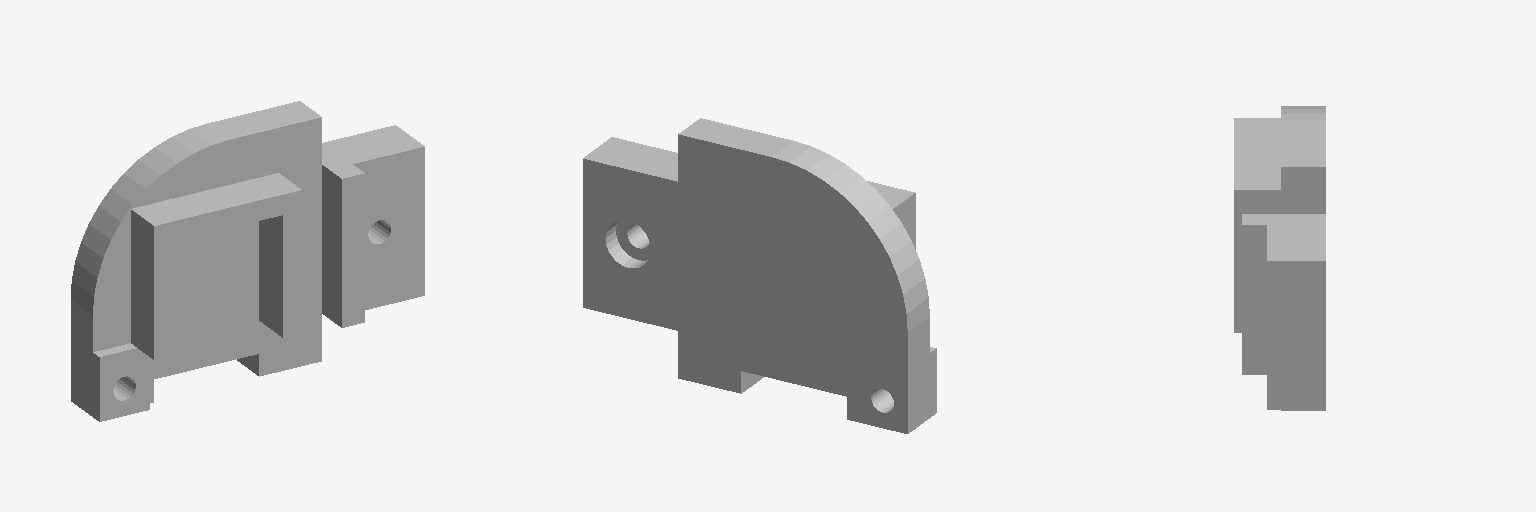
Rendered from cam brace.obj.
3 views of the same model, side by side, from view 1: azimuth 30°, elevation 25°; view 2: azimuth 150°, elevation 25°; view 3: azimuth 270°, elevation 25° (orthographic).
Parts seen in each view (by area): view 1: Mesh1 Camera_Brace1 Model; view 2: Mesh1 Camera_Brace1 Model; view 3: Mesh1 Camera_Brace1 Model.
Boxes of the visible parts, box(x1,y1,x2,y2) form: Mesh1 Camera_Brace1 Model: box(71, 101, 424, 421); Mesh1 Camera_Brace1 Model: box(583, 118, 936, 433); Mesh1 Camera_Brace1 Model: box(1234, 106, 1325, 410).
Bounding box in the file's own units: 28.67 × 20.57 × 6.98.